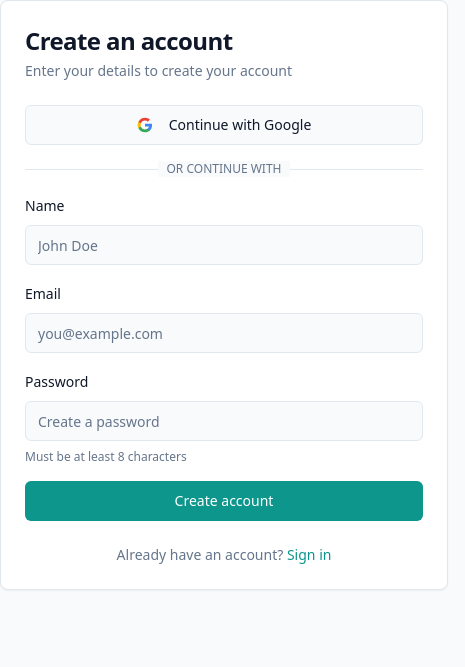
Test: SignUpForm › displays error on failed sign up
This screenshot has width=465, height=667.
Type "John" into the field labelled "Name".
click(224, 245); type("John")  # box [25, 225, 423, 265]
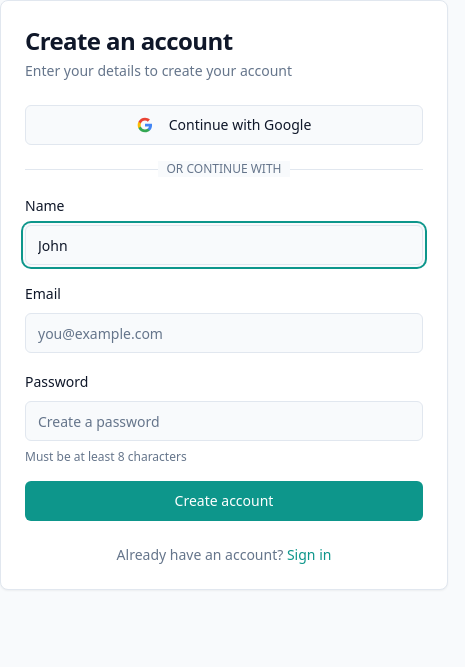
Type "john@test.com" into the field labelled "Email".
click(224, 333); type("john@test.com")  # box [25, 313, 423, 353]
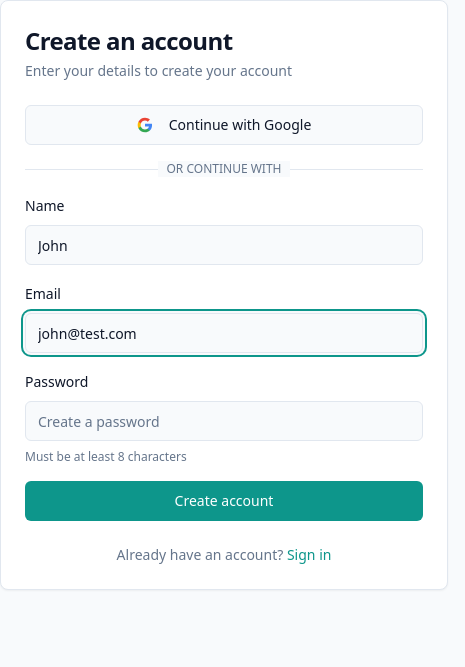
Type "password123" into the password field labelled "Password".
click(224, 421); type("password123")  # box [25, 401, 423, 441]
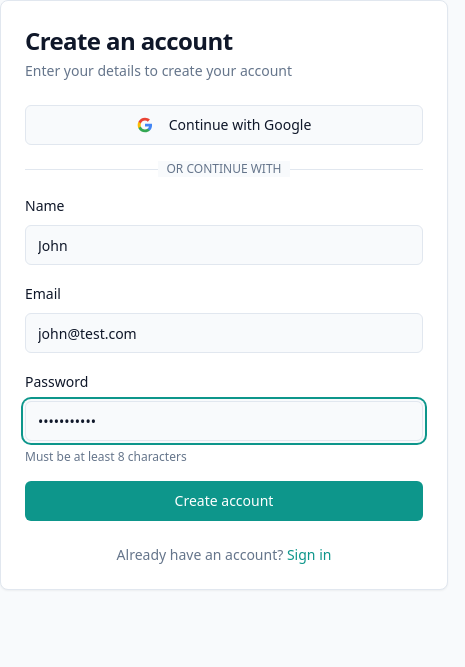
Click the button "Create account".
click(224, 501)  # box [25, 481, 423, 521]
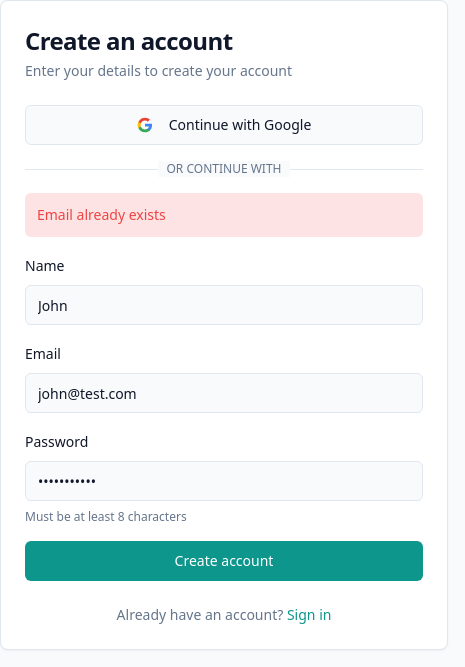
Result: the text "Email already exists" is shown at [25, 193, 423, 237]
